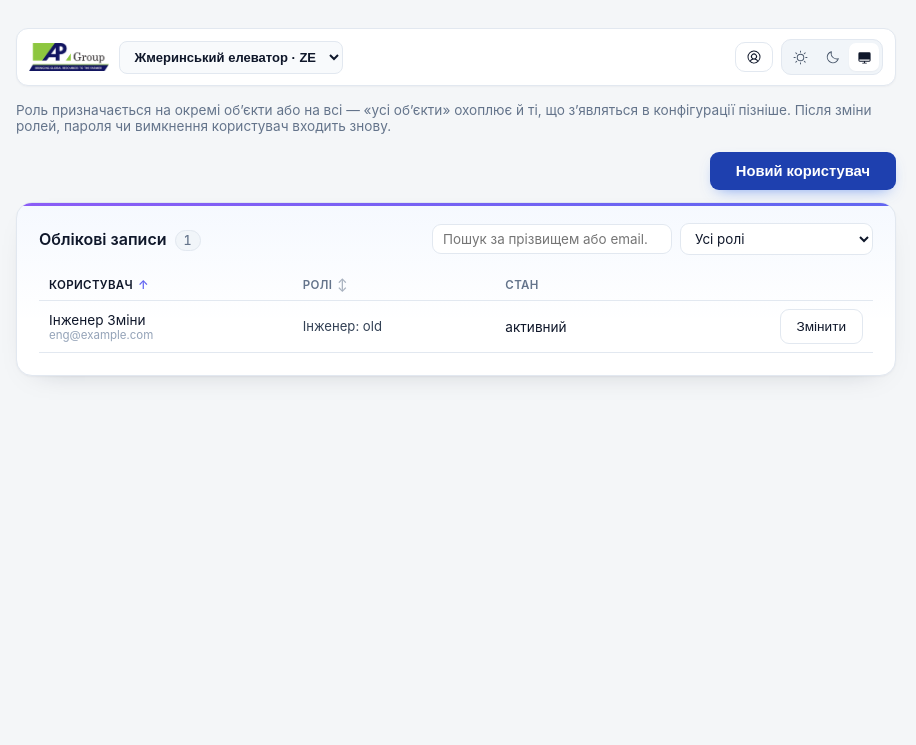
Test case: UsersPage › deletes an account after a confirmation
Click the button "Змінити" at [821, 326], box [780,309,863,344]
(page scrolled)
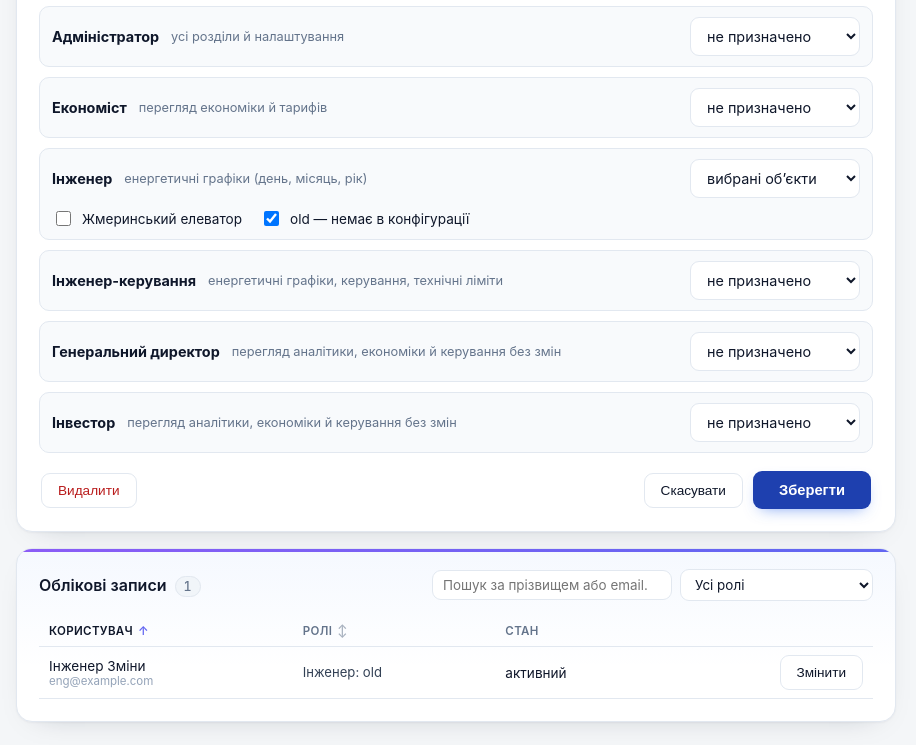
Click the button "Видалити" at [89, 490], box [41,472,136,508]
(page scrolled)
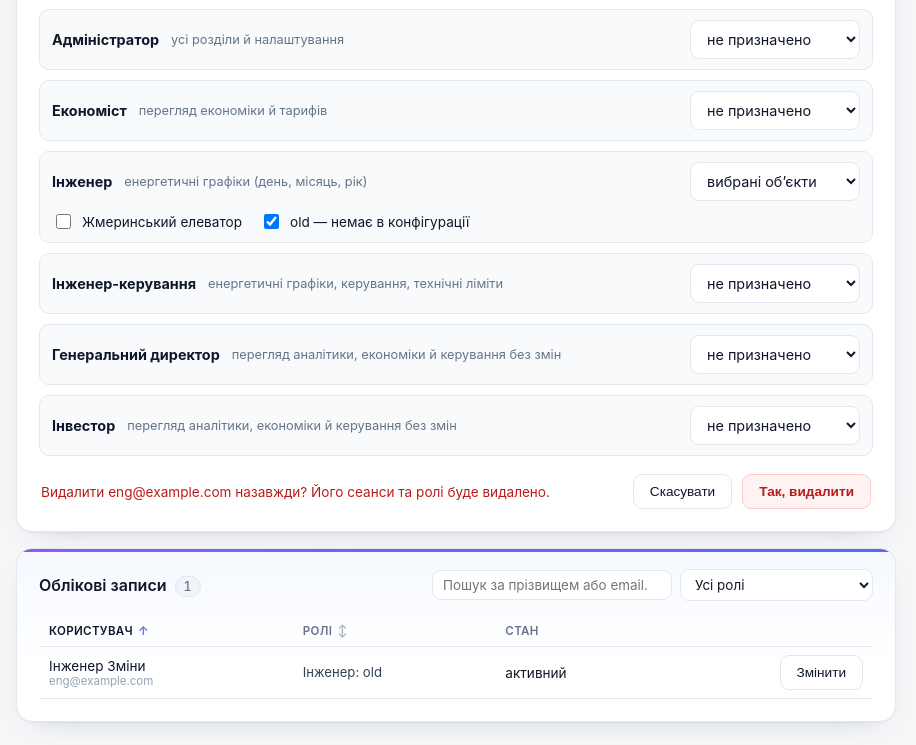
Result: the text "Видалити eng@example.com назавжди" is shown at [41,484,550,500]
Click the button "Так, видалити" at [807, 492], box [742,474,871,509]
(page scrolled)
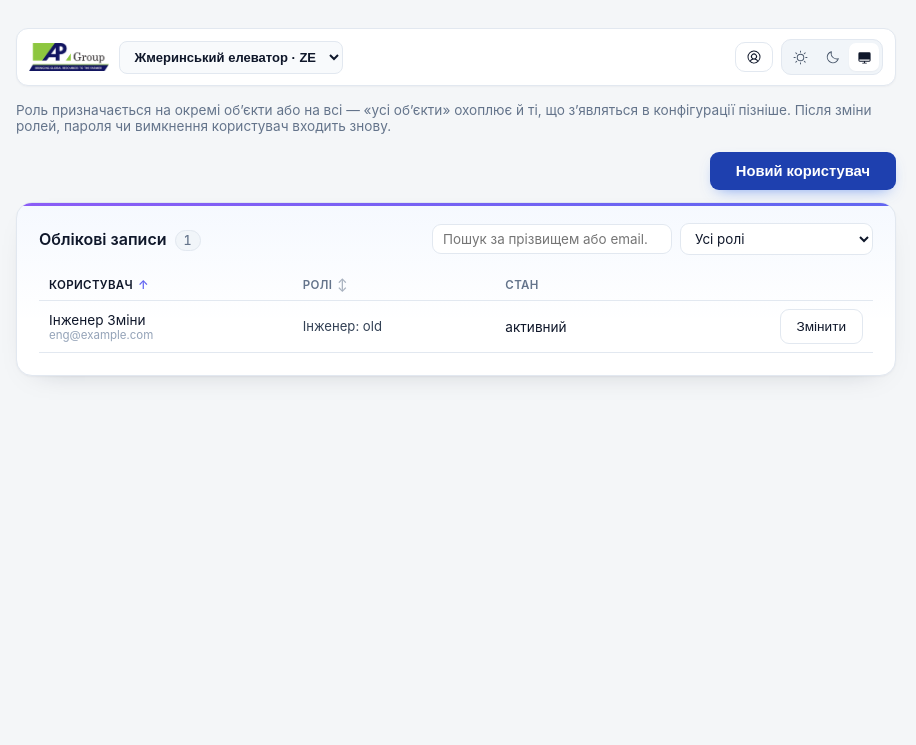
Result: the button "Новий користувач" is shown at [710,152,896,190]
